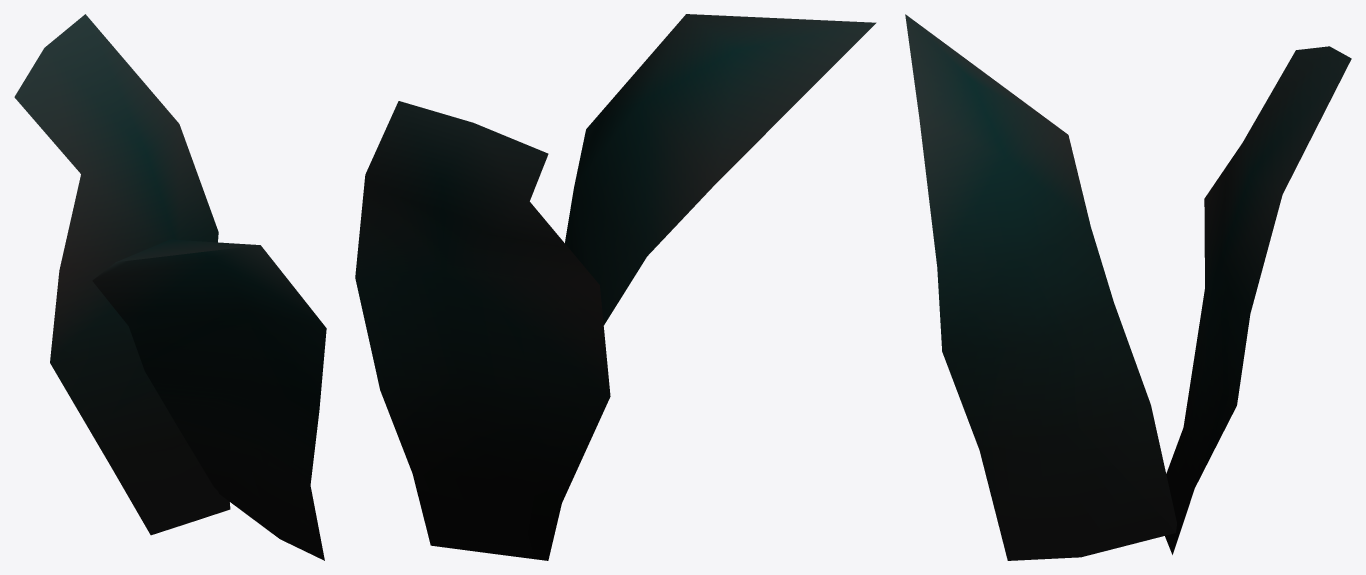
File: TSI_Plant_13A.fbx
3 renders of one model, left to right at view 1: azimuth 30°, elevation 25°; view 2: azimuth 150°, elevation 25°; view 3: azimuth 270°, elevation 25°, orthographic. The views are drawn at different scales.
Parts seen in each view (by area): view 1: TSI_Plant_13A_LOD0; view 2: TSI_Plant_13A_LOD0; view 3: TSI_Plant_13A_LOD0.
Part boxes in pixels (left/top/right/bottom): TSI_Plant_13A_LOD0: left=14, top=14, right=326, bottom=560; TSI_Plant_13A_LOD0: left=355, top=14, right=876, bottom=560; TSI_Plant_13A_LOD0: left=905, top=14, right=1351, bottom=560.
Bounding box in the file's own units: 55.8 × 88.86 × 77.06.
